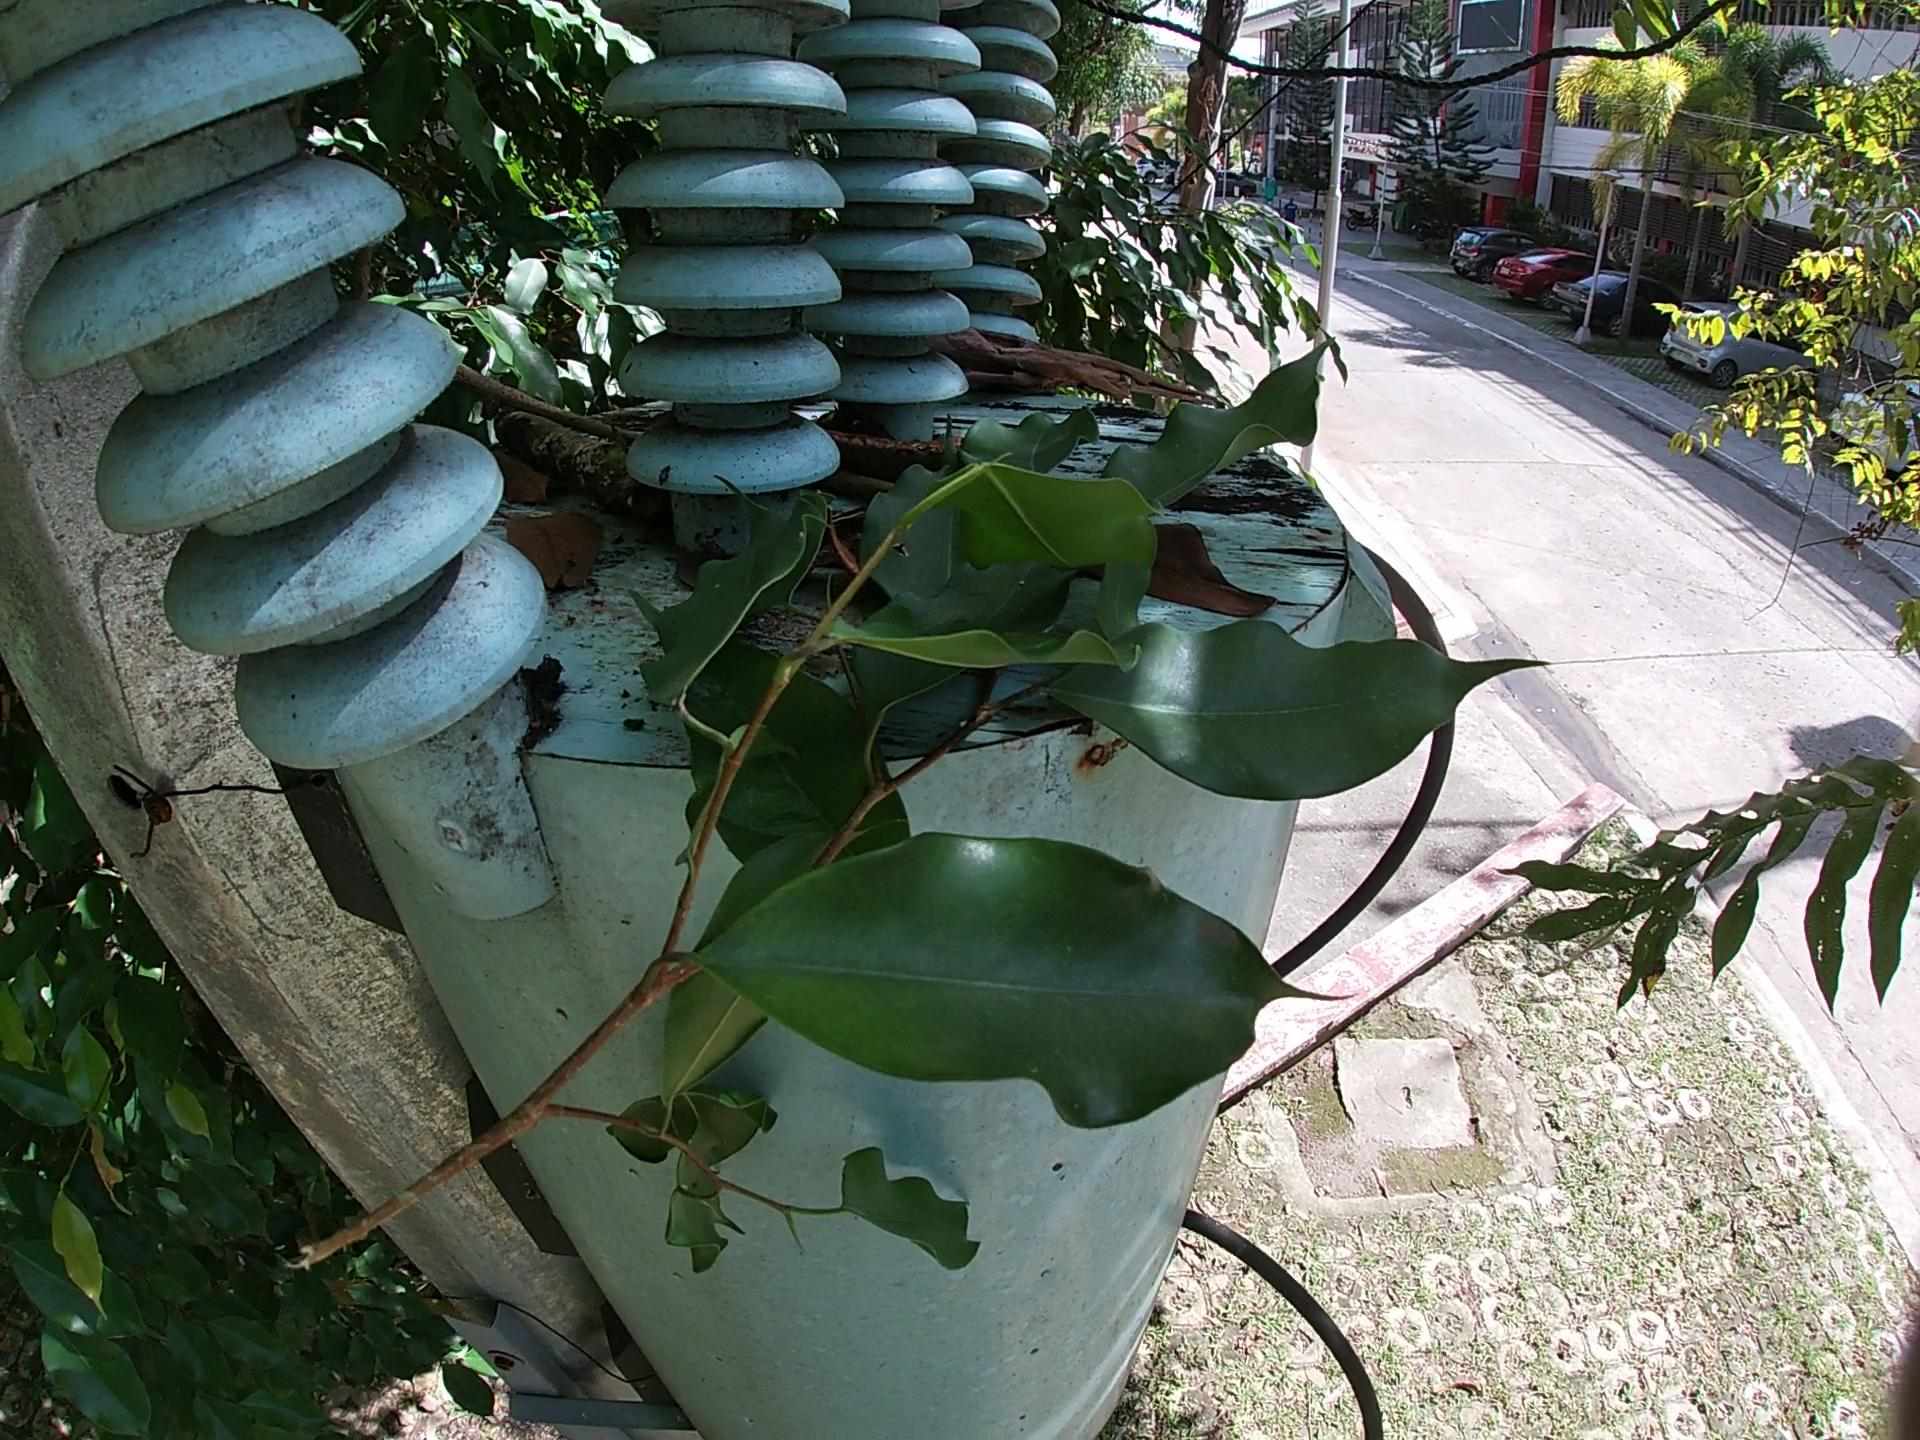branch with leaves: (280, 330, 1556, 1286)
leaf: (1141, 517, 1281, 625), (503, 510, 608, 602)
mahogany fruit: (819, 424, 962, 493)
tree branch: (928, 324, 1231, 413), (491, 410, 677, 529), (444, 360, 641, 443)
